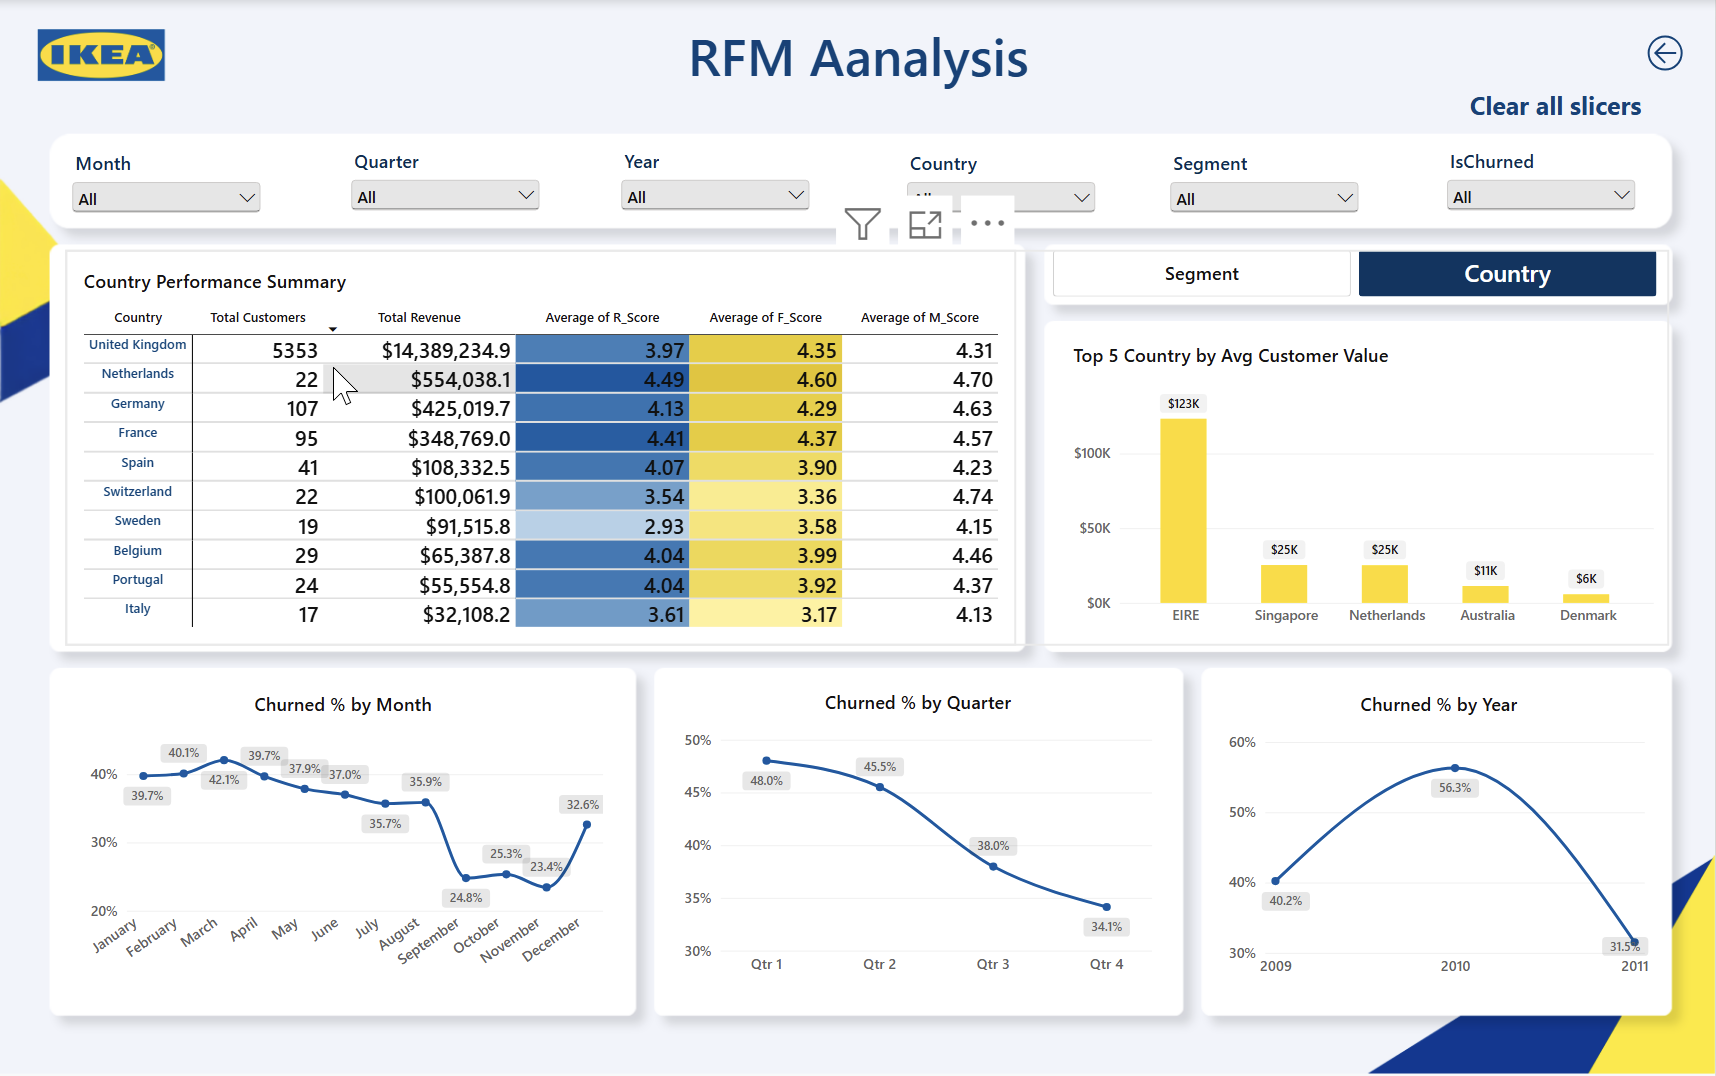

This screenshot's page, from the dashboard's own definition file:
{"tool":"powerbi","page":{"name":"RFM Aanalysis","canvas":[1750,1100],"ordinal":2},"visuals":[{"type":"slicer","fields":{"Values":["Sheet1.InvoiceDate.Variation.Date Hierarchy.Month"]},"box":[68.9,153.8,202,80.4],"z":0},{"type":"columnChart","title":"Segment by Avg Customer Value","fields":{"Category":["Sheet1.Segment"],"Y":["measure.Avg Customer Value"]},"box":[1074.5,335.2,624.5,323.7],"z":0,"group":"g2"},{"type":"lineChart","fields":{"Category":["Sheet1.InvoiceMonth.Variation.Date Hierarchy.Year"],"Y":["measure.Churned %"]},"box":[1237.5,691.1,461.5,326],"z":0,"group":"g1"},{"type":"slicer","fields":{"Values":["Sheet1.InvoiceDate.Variation.Date Hierarchy.Quarter"]},"box":[353.6,151.5,202,80.4],"z":1000},{"type":"pivotTable","title":"Segment Performance Summary","fields":{"Rows":["Sheet1.Segment"],"Values":["measure.Total Customers","measure.Total Revenue","Avg(Sheet1.R_Score)","Avg(Sheet1.F_Score)","Avg(Sheet1.M_Score)"]},"box":[66.6,254.8,971.2,404.1],"z":1000,"group":"g2"},{"type":"lineChart","fields":{"Category":["Sheet1.InvoiceMonth.Variation.Date Hierarchy.Quarter"],"Y":["measure.Churned %"]},"box":[681.9,688.8,509.7,326],"z":1000,"group":"g1"},{"type":"slicer","fields":{"Values":["Sheet1.InvoiceDate.Variation.Date Hierarchy.Year"]},"box":[630,151.5,202,89.5],"z":2000},{"type":"lineChart","fields":{"Category":["Sheet1.InvoiceMonth.Variation.Date Hierarchy.Month"],"Y":["measure.Churned %"]},"box":[68.9,690.4,562.5,326],"z":2000,"group":"g1"},{"type":"slicer","fields":{"Values":["Sheet1.Country"]},"box":[920.7,153.8,202,89.5],"z":3000},{"type":"slicer","fields":{"Values":["Sheet1.Segment"]},"box":[1189.3,153.8,202,89.5],"z":4000},{"type":"slicer","fields":{"Values":["Sheet1.IsChurned"]},"box":[1471.7,151.5,202,89.5],"z":5000},{"type":"group","id":"g1","title":"Revenue","box":[68.9,688.8,1630.1,328.3],"z":7000},{"type":"bookmarkNavigator","box":[1074.5,254.8,617.6,48.2],"z":8000},{"type":"image","box":[0,0,206.6,112.5],"z":9000},{"type":"textbox","box":[593.7,20.7,562.5,87.2],"z":10000},{"type":"actionButton","box":[1648.5,25.3,101,57.4],"z":11000},{"type":"actionButton","box":[1483.3,83.3,208.3,50],"z":12000},{"type":"group","id":"g2","title":"Segment","box":[66.6,254.8,1632.4,404.1],"z":14000}]}

Visuals, with their boxes in screenshot pixels (x1, y1, x2, y2), scaled from the page's 1750x1100 canvas onto the 1716x1076 screenshot:
slicer - Sheet1.InvoiceDate.Variation.Date Hierarchy.Month: l=68, t=150, r=266, b=229
"Segment by Avg Customer Value" columnChart: l=1054, t=328, r=1666, b=645
lineChart - Sheet1.InvoiceMonth.Variation.Date Hierarchy.Year x measure.Churned %: l=1213, t=676, r=1666, b=995
slicer - Sheet1.InvoiceDate.Variation.Date Hierarchy.Quarter: l=347, t=148, r=545, b=227
"Segment Performance Summary" pivotTable: l=65, t=249, r=1018, b=645
lineChart - Sheet1.InvoiceMonth.Variation.Date Hierarchy.Quarter x measure.Churned %: l=669, t=674, r=1168, b=993
slicer - Sheet1.InvoiceDate.Variation.Date Hierarchy.Year: l=618, t=148, r=816, b=236
lineChart - Sheet1.InvoiceMonth.Variation.Date Hierarchy.Month x measure.Churned %: l=68, t=675, r=619, b=994
slicer - Sheet1.Country: l=903, t=150, r=1101, b=238
slicer - Sheet1.Segment: l=1166, t=150, r=1364, b=238
slicer - Sheet1.IsChurned: l=1443, t=148, r=1641, b=236
"Revenue" group: l=68, t=674, r=1666, b=995
bookmarkNavigator: l=1054, t=249, r=1659, b=296
image: l=0, t=0, r=203, b=110
textbox: l=582, t=20, r=1134, b=106
actionButton: l=1616, t=25, r=1715, b=81
actionButton: l=1454, t=81, r=1659, b=130
"Segment" group: l=65, t=249, r=1666, b=645
